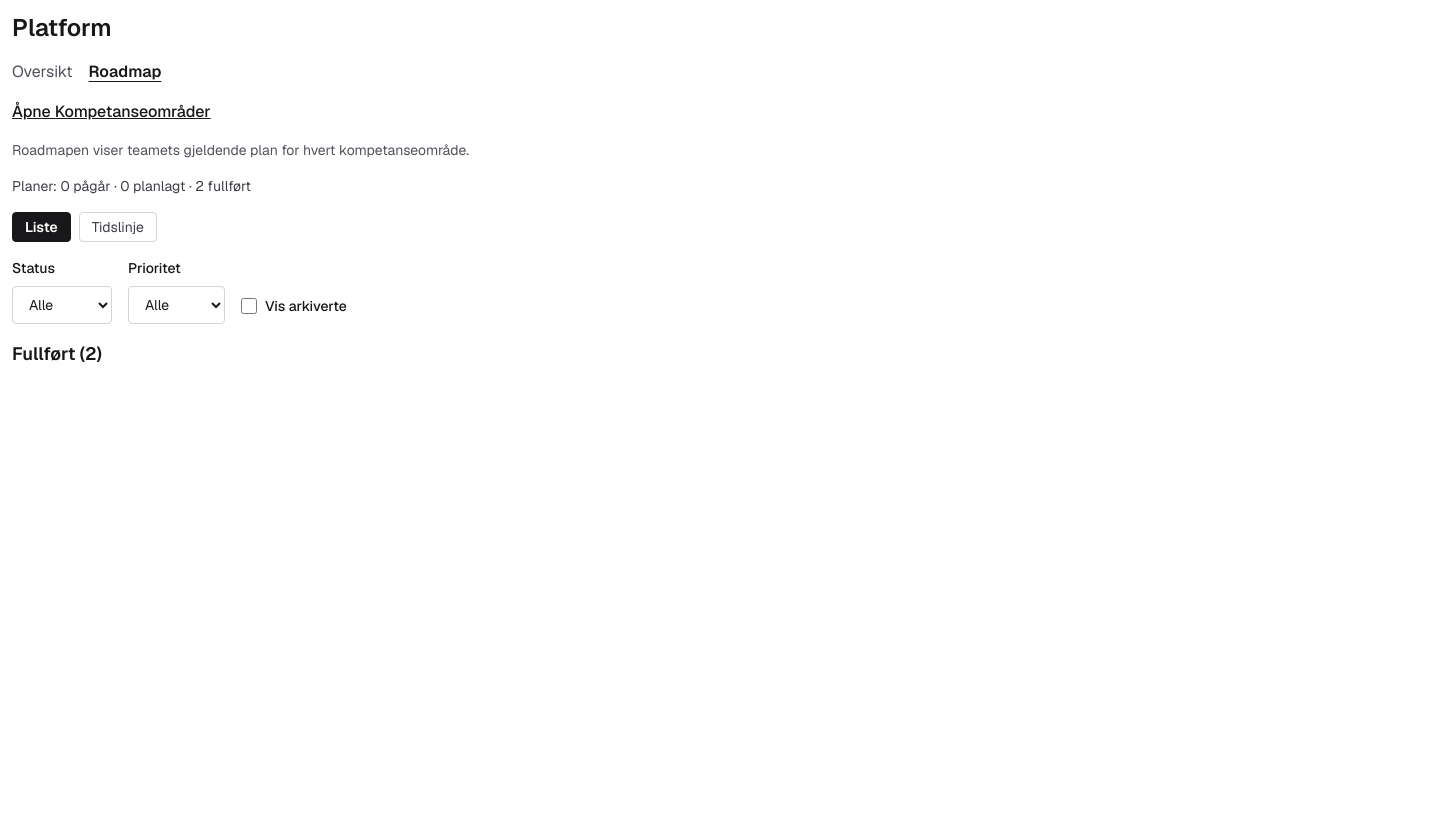
Test: RoadmapPage read shell › shows Fullført <date> only when completedAt is non-null and never 'null'
Click the button "Fullført (2)".
click(57, 354)  # box [12,340,102,368]
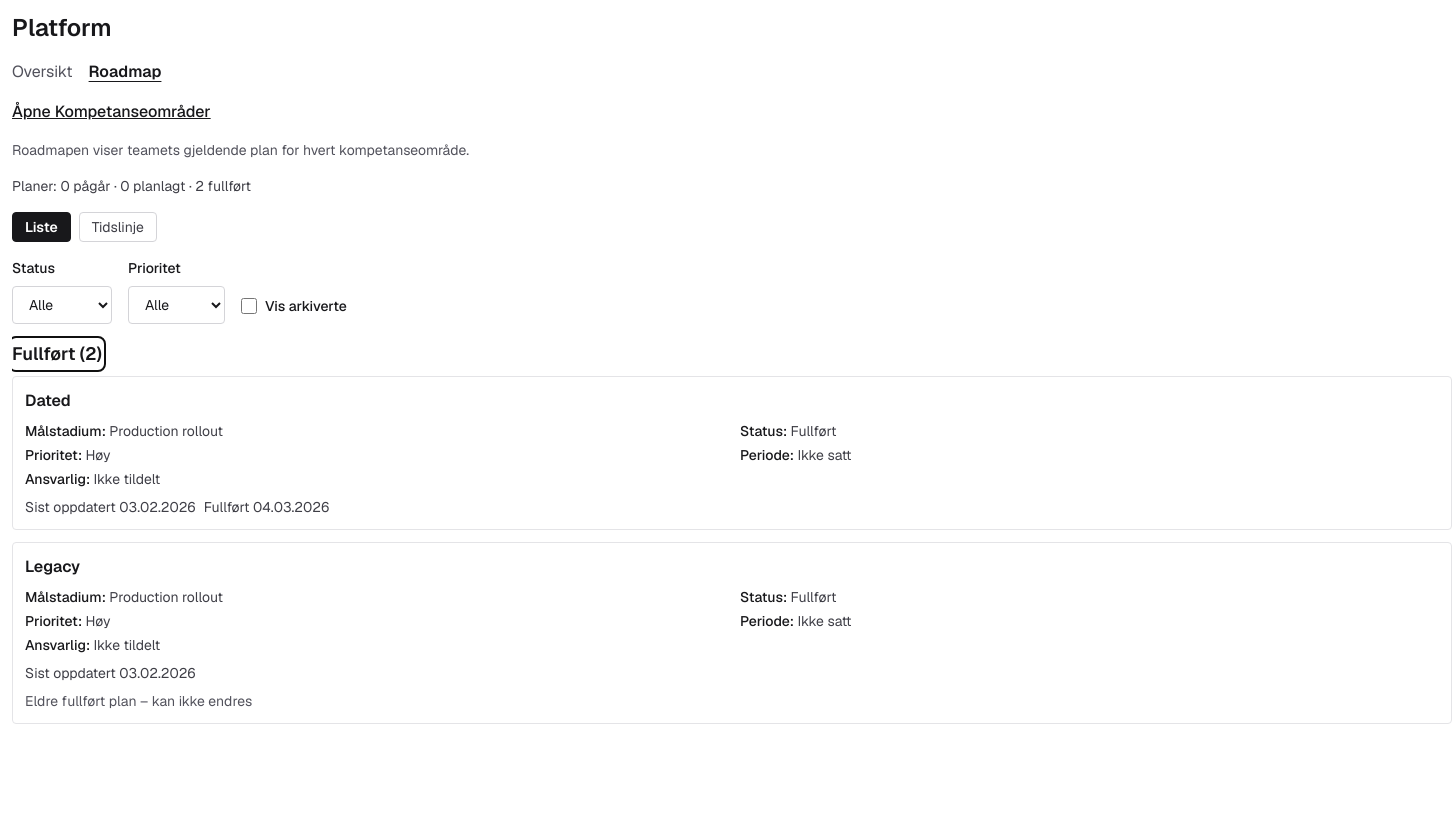
Expected: the element "Dated" shows "Fullført 04.03.2026", [12,376,1451,530]
Expected: the element "Legacy" shows "Fullført", [791,588,836,606]
